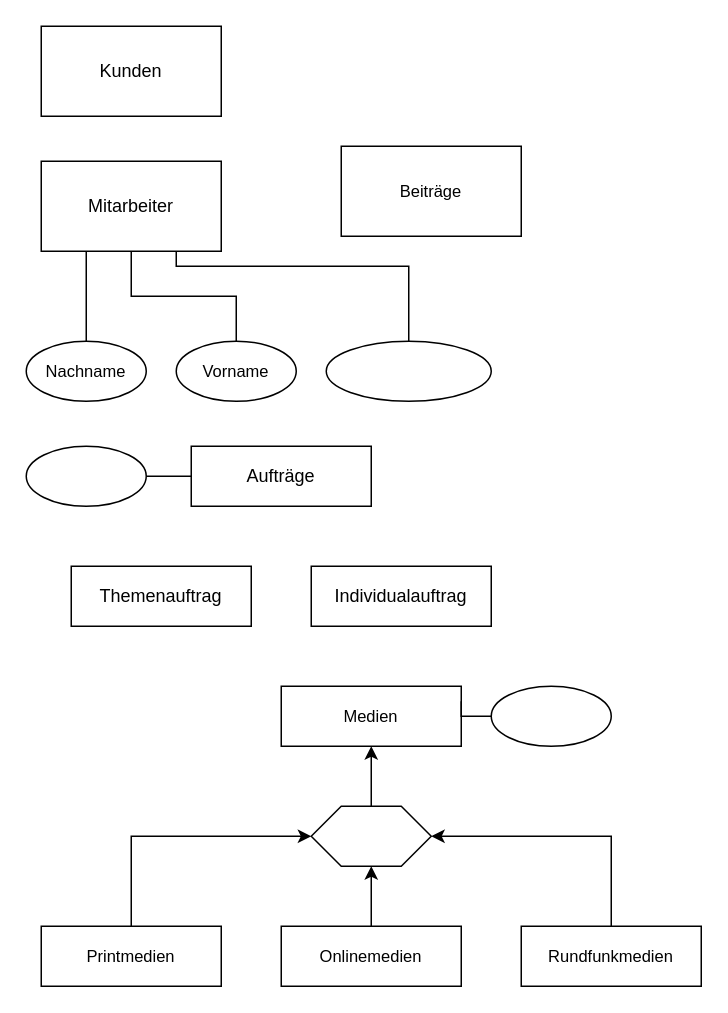
The diagram is 728 pixels wide and 1013 high, and some of its shapes have lost their labels. Here are the shapes that lost their labels. From the top down, the centre of each, then its label:
point (408, 370): Mitarbeiternummer
point (85, 475): Auftragsnr.
point (550, 715): Name
point (370, 835): is a
